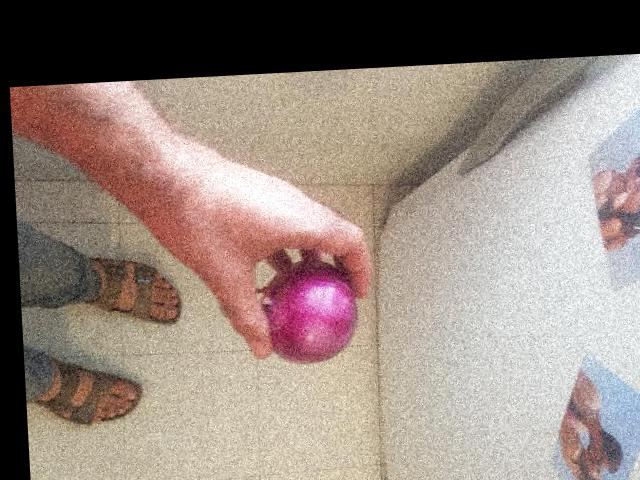onion: (254, 249, 358, 368)
